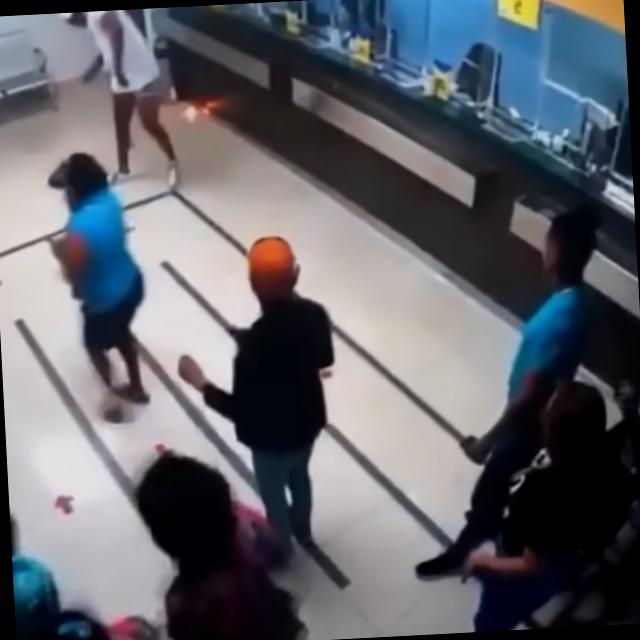person: (398, 209, 622, 579), (172, 236, 346, 574), (449, 380, 640, 631), (130, 444, 307, 640), (45, 148, 154, 421), (64, 8, 181, 196)
